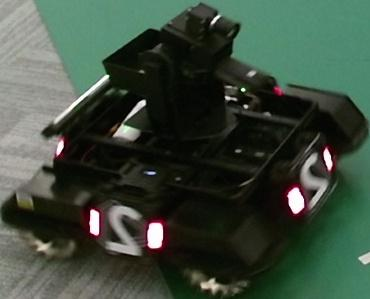armor_2: (88, 208, 164, 250), (288, 148, 334, 215)
